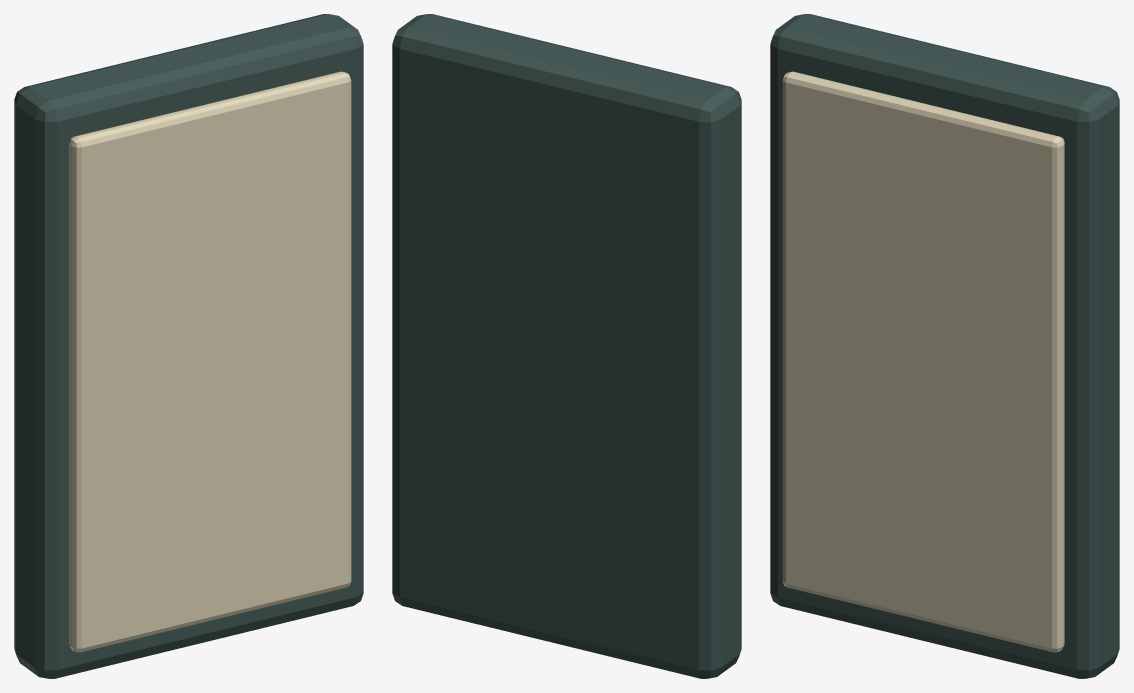
File: SM_Timetable.fbx
The picture shows the model from 3 angles, left to right: view 1: azimuth 30°, elevation 25°; view 2: azimuth 150°, elevation 25°; view 3: azimuth 330°, elevation 25°; orthographic projection.
Visible parts, largest first — view 1: SM_Timetable; view 2: SM_Timetable; view 3: SM_Timetable.
Boxes of the visible parts, bbox=[...] form: SM_Timetable: bbox=[14, 14, 363, 678]; SM_Timetable: bbox=[392, 14, 741, 678]; SM_Timetable: bbox=[770, 14, 1119, 678].
Size of the model in its own units: 80 by 18.5 by 135.
